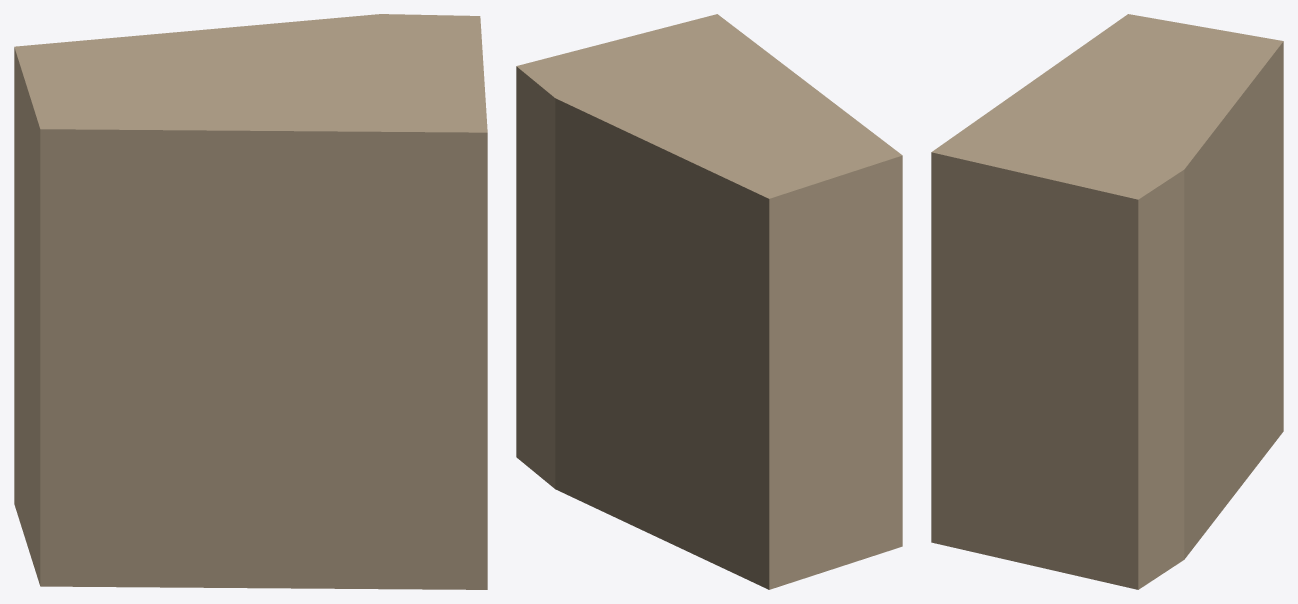
File: bld_99615862.dae
3 renders of one model, left to right at view 1: azimuth 30°, elevation 25°; view 2: azimuth 150°, elevation 25°; view 3: azimuth 270°, elevation 25°, orthographic. The views are drawn at different scales.
Visible parts, largest first — view 1: bld_99615862; view 2: bld_99615862; view 3: bld_99615862.
Part boxes in pixels (x1,y1,x2,y2): bld_99615862: [14, 14, 487, 589]; bld_99615862: [516, 14, 902, 589]; bld_99615862: [931, 14, 1283, 589].
Size of the model in its own units: 8.16 by 6.55 by 8.
